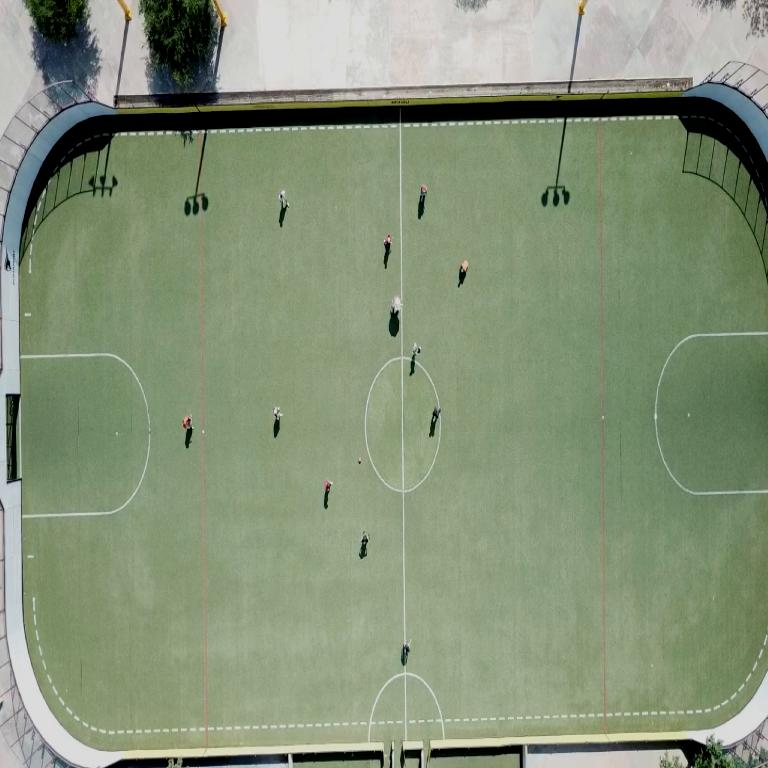AC: (22, 354, 151, 517), (655, 331, 768, 495)
B: (359, 459, 361, 463)
MC: (400, 318, 405, 671)
P: (459, 260, 467, 285), (391, 295, 401, 314), (278, 190, 288, 207), (182, 414, 192, 430), (324, 478, 332, 495), (432, 406, 440, 422), (383, 234, 390, 252), (460, 260, 467, 275), (361, 532, 368, 547), (420, 184, 426, 201), (274, 407, 281, 421), (412, 343, 419, 357)
